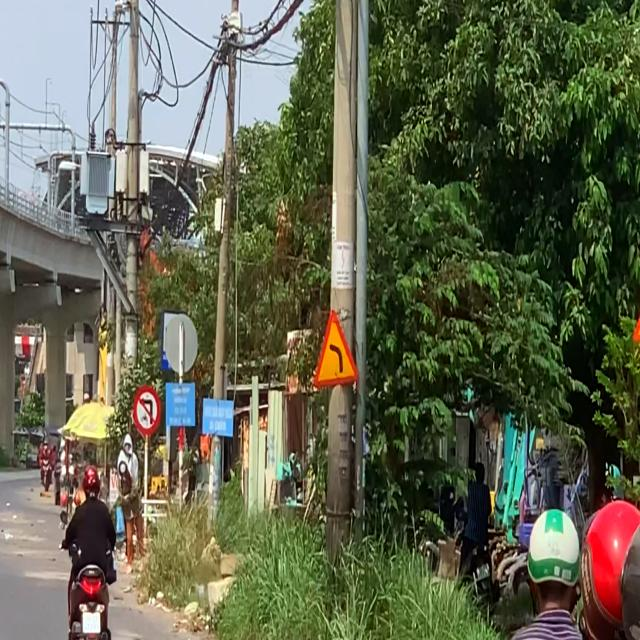Cam re trai: (132, 386, 161, 439)
Nguy hiem: (313, 306, 362, 392)
